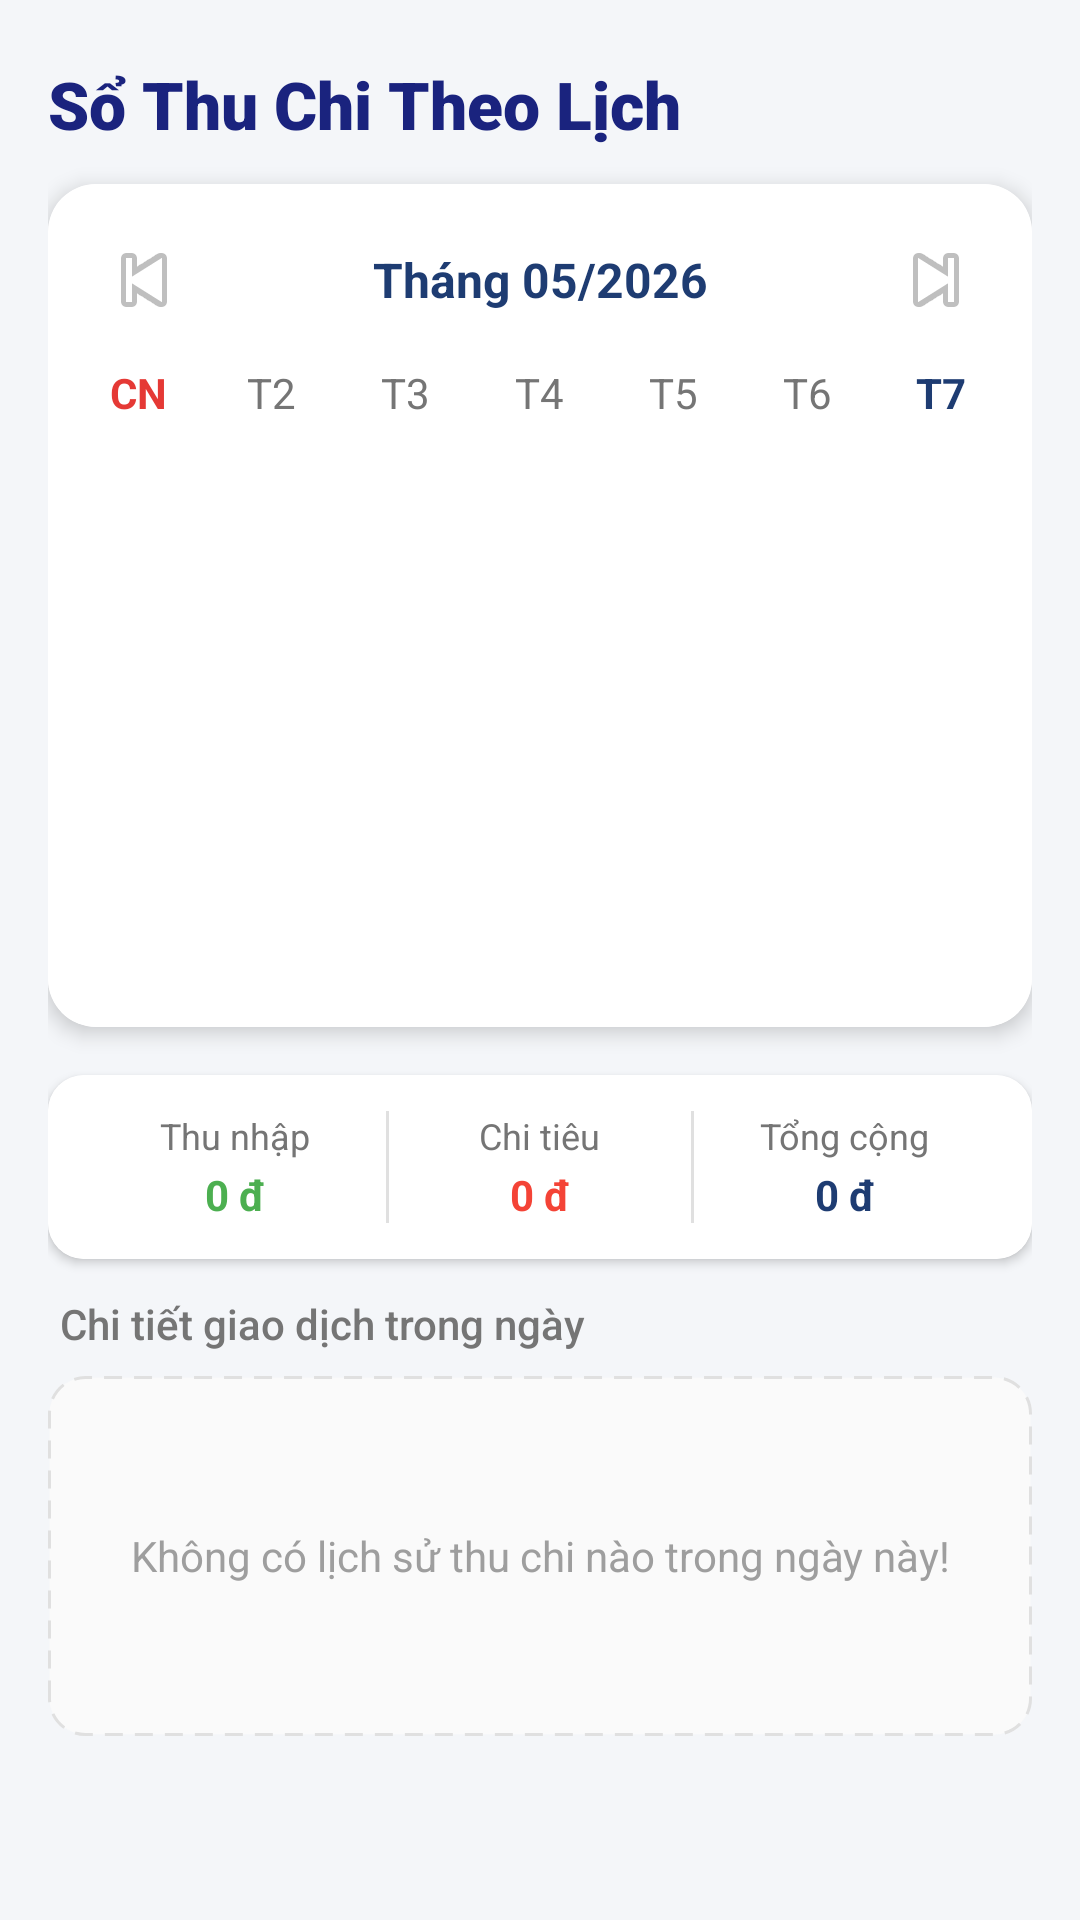

Icons on this 1080 x 1920 Android screen, each with its box as detection(x1, y1, x2, y2):
Tháng sau: detection(913, 253, 959, 307)
Tháng trước: detection(121, 253, 167, 307)
